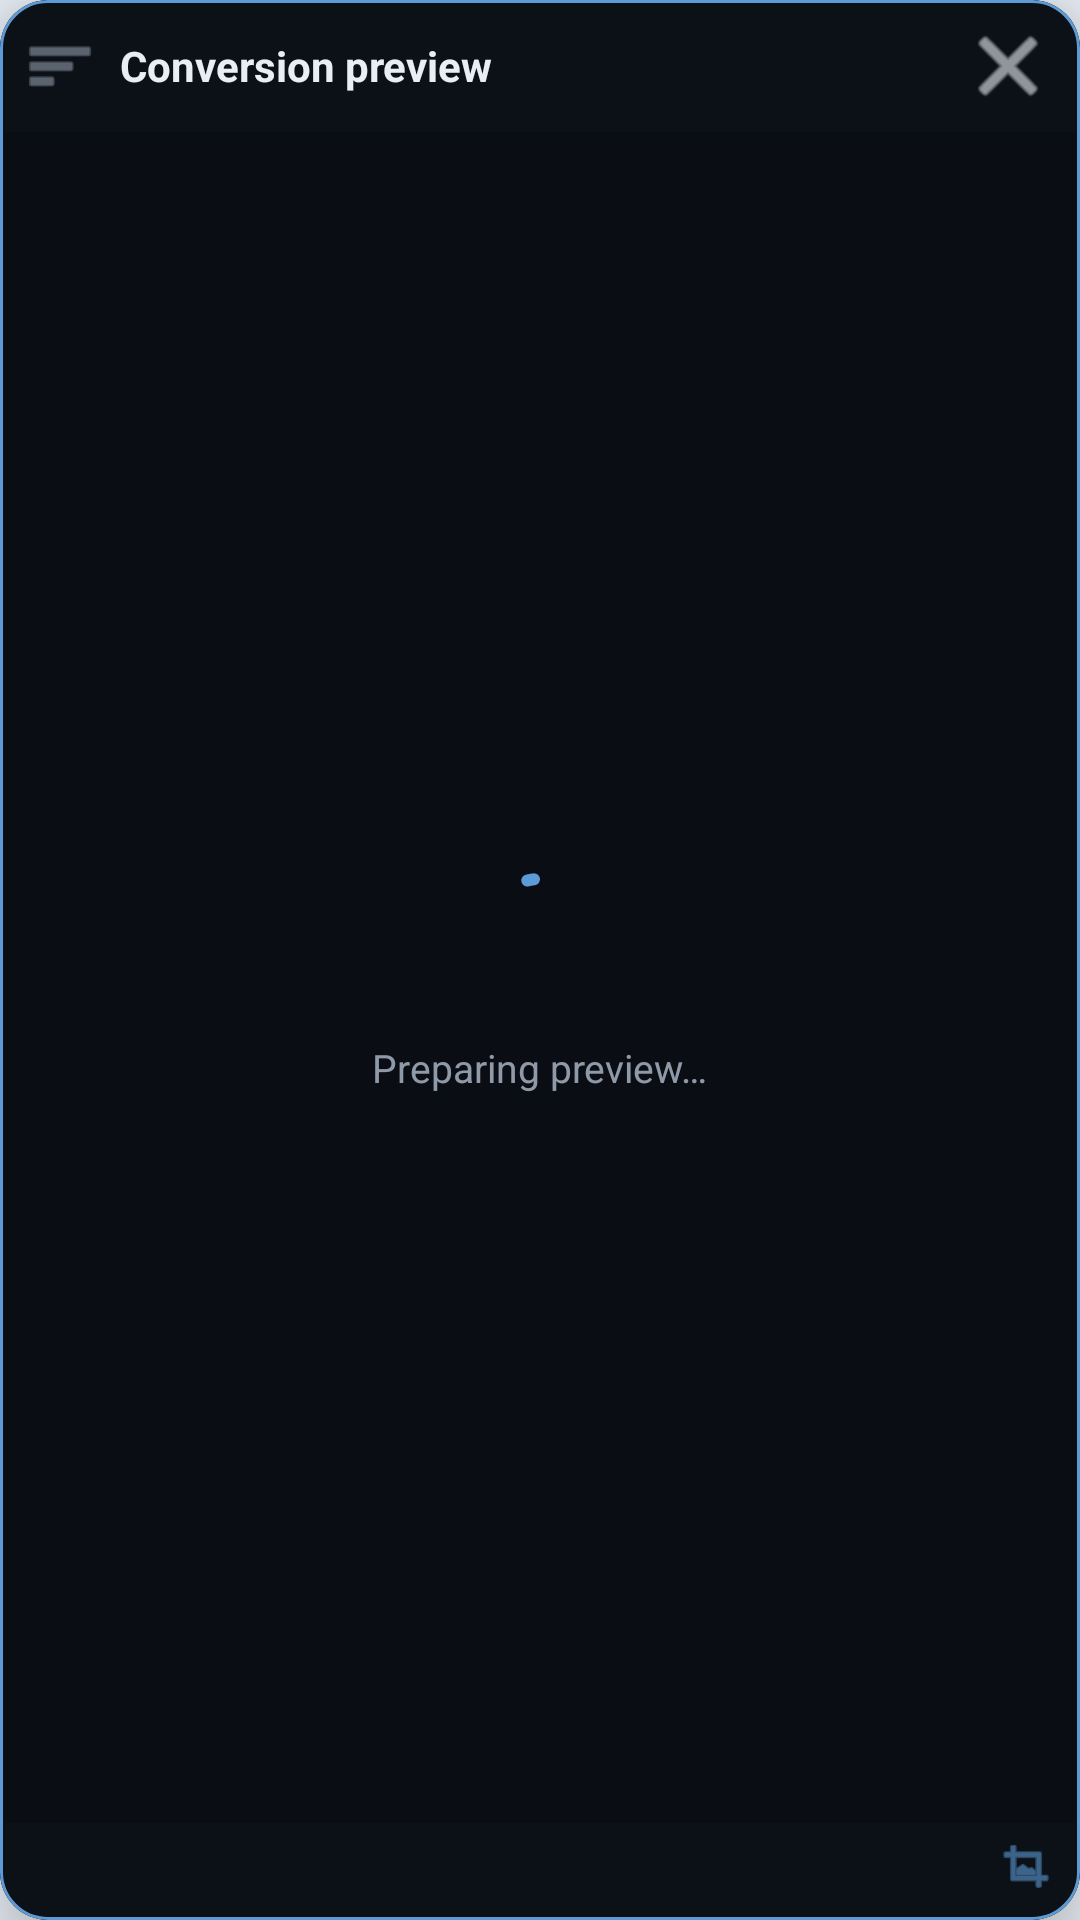

Icons on this 1080px×1920px Android screen, each with the point to tap as (x,y):
Close: (1008,66)
sort by size: (60,66)
